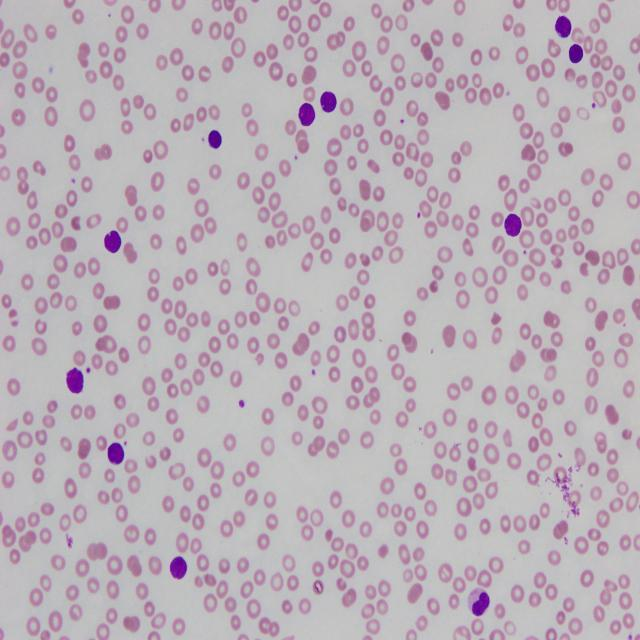cell: (66, 368, 84, 393), (504, 213, 522, 237), (170, 557, 188, 580), (104, 230, 121, 253), (108, 442, 125, 465), (299, 103, 315, 127), (555, 15, 571, 38), (320, 92, 336, 112), (569, 43, 584, 63), (208, 130, 221, 148)
